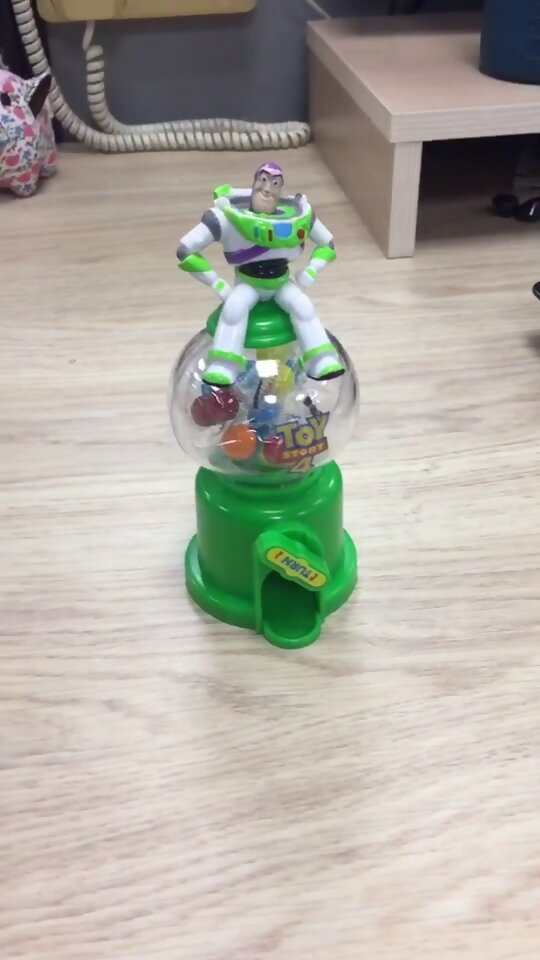buzz: (169, 158, 367, 655)
